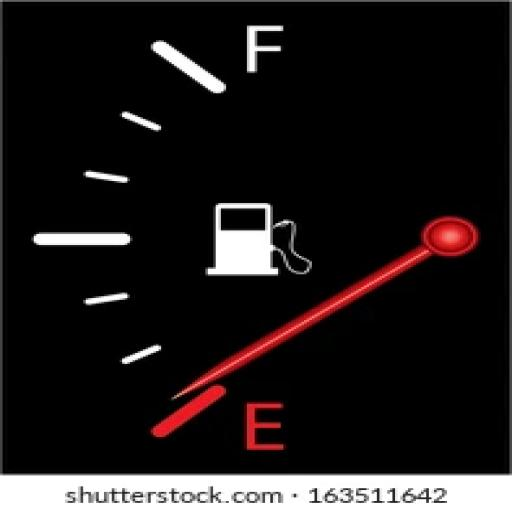empty: (237, 398, 289, 456)
fuel_icon: (204, 199, 315, 280)
full: (241, 21, 283, 76)
guage_area: (22, 9, 500, 471), (169, 382, 198, 401)
needle_center: (400, 212, 482, 262)
